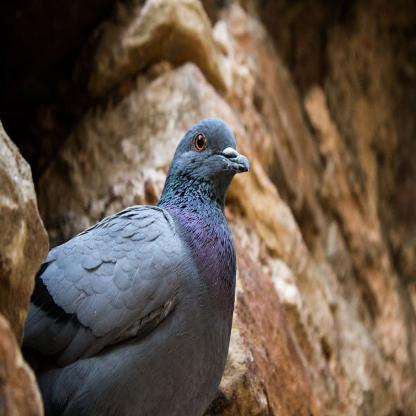Rock Pigeon: (40, 116, 251, 412)
